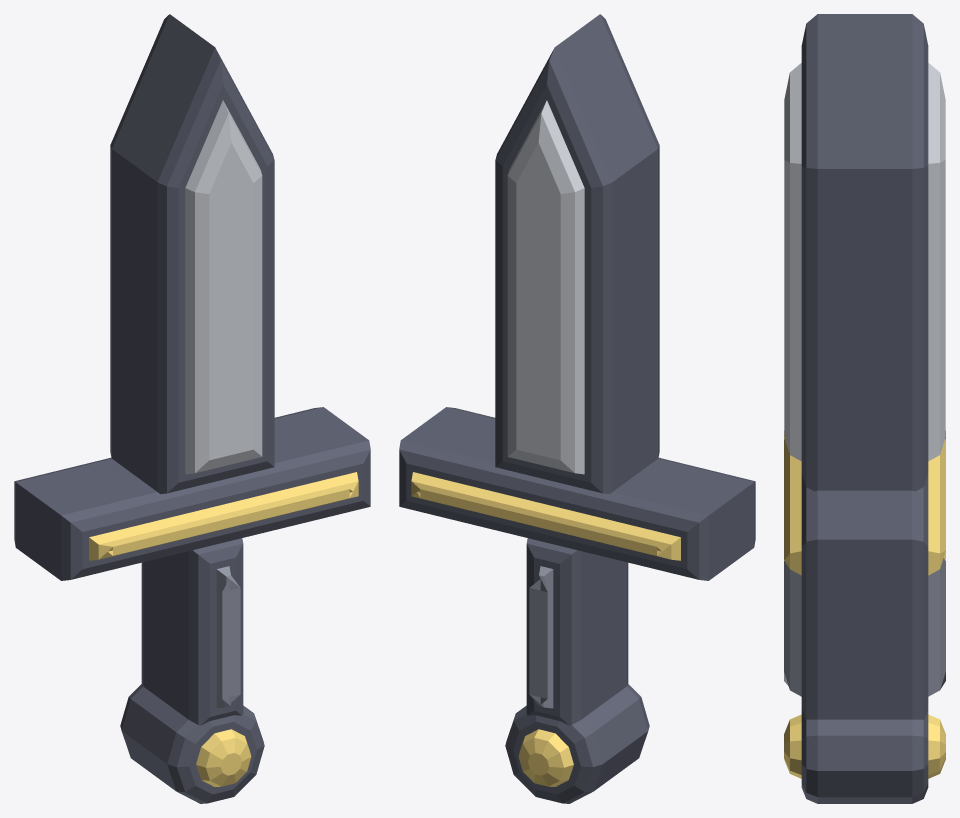
File: sword-0.glb
The picture shows the model from 3 angles, left to right: view 1: azimuth 30°, elevation 25°; view 2: azimuth 150°, elevation 25°; view 3: azimuth 270°, elevation 25°; orthographic projection. The views are drawn at different scales.
Visible parts, largest first — view 1: sword-glyph; view 2: sword-glyph; view 3: sword-glyph.
Boxes of the visible parts, x1,y1,x2,y2 form: sword-glyph: [14, 14, 370, 803]; sword-glyph: [399, 14, 755, 803]; sword-glyph: [784, 14, 945, 803].
Size of the model in its own units: 0.4023 by 0.94 by 0.176.
